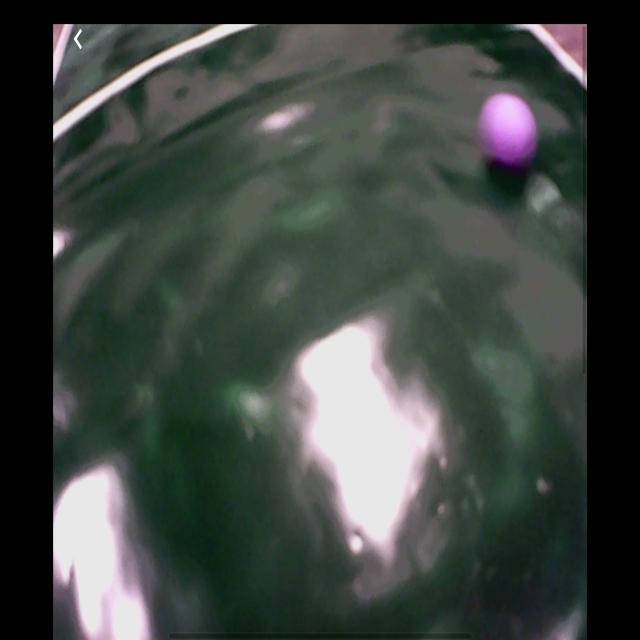ball: (478, 92, 539, 171)
